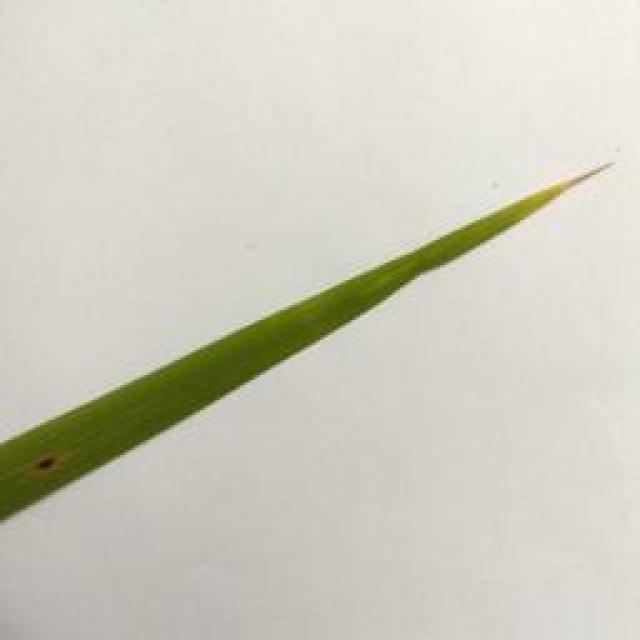Brown_Spot: (29, 453, 63, 476)
